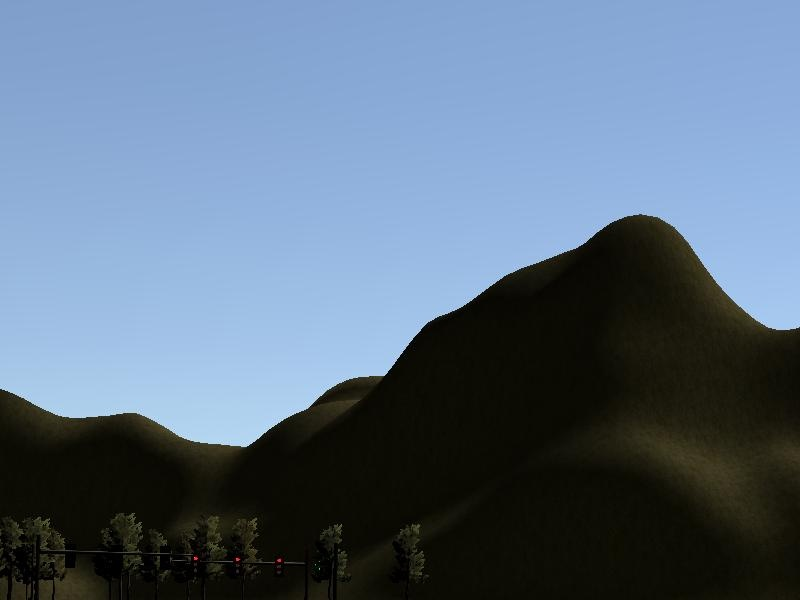RED: (231, 555, 243, 581), (189, 552, 201, 576), (274, 555, 285, 580)
